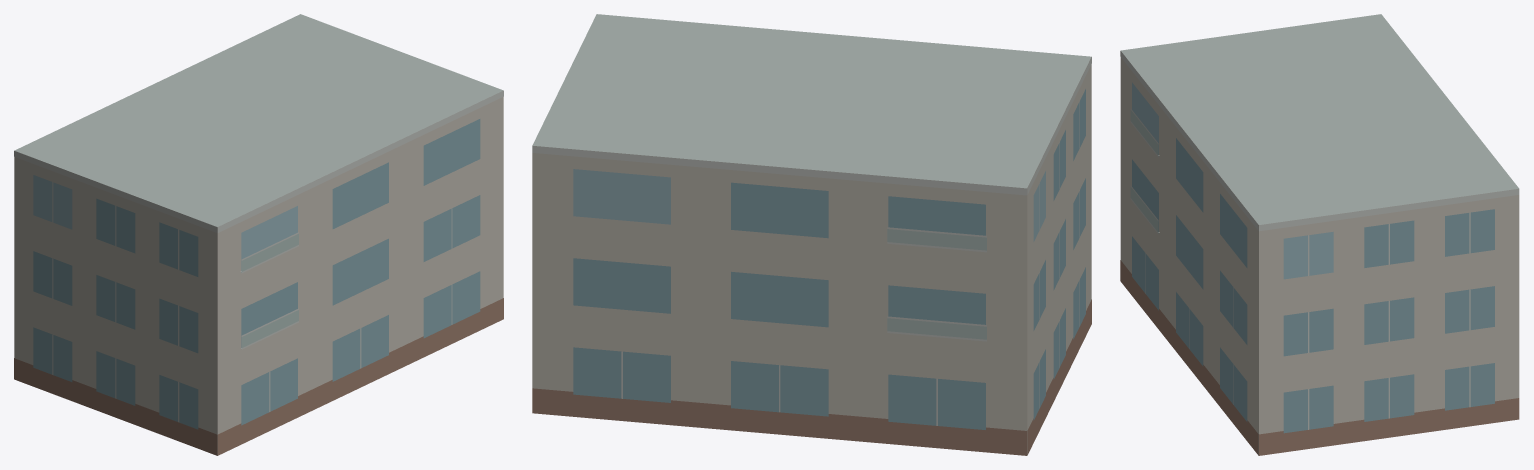
The model's file is survey-upis-32703733.glb.
3 renders of one model, left to right at view 1: azimuth 30°, elevation 25°; view 2: azimuth 150°, elevation 25°; view 3: azimuth 270°, elevation 25°, orthographic. The views are drawn at different scales.
Parts seen in each view (by area): view 1: survey-upis-32703733.tmp; view 2: survey-upis-32703733.tmp; view 3: survey-upis-32703733.tmp.
Part boxes in pixels (left/top/right/bottom): survey-upis-32703733.tmp: left=14, top=14, right=503, bottom=455; survey-upis-32703733.tmp: left=532, top=14, right=1091, bottom=455; survey-upis-32703733.tmp: left=1120, top=14, right=1519, bottom=455.
Bounding box in the file's own units: 17.97 × 9.15 × 14.34.
